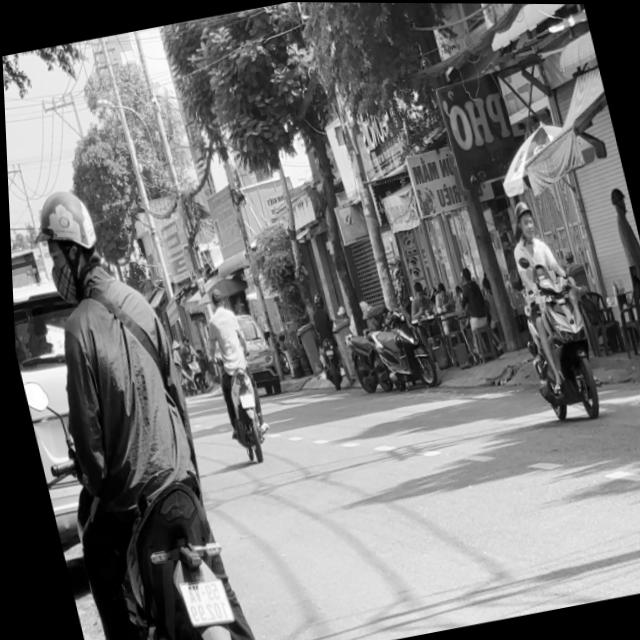helmet: (28, 185, 108, 296), (510, 197, 539, 241)
licenseplate: (6, 164, 263, 640), (490, 191, 608, 428), (188, 282, 272, 470)
motorcyclist: (205, 286, 224, 313)
nohelmet: (175, 575, 229, 627), (235, 392, 252, 408)
